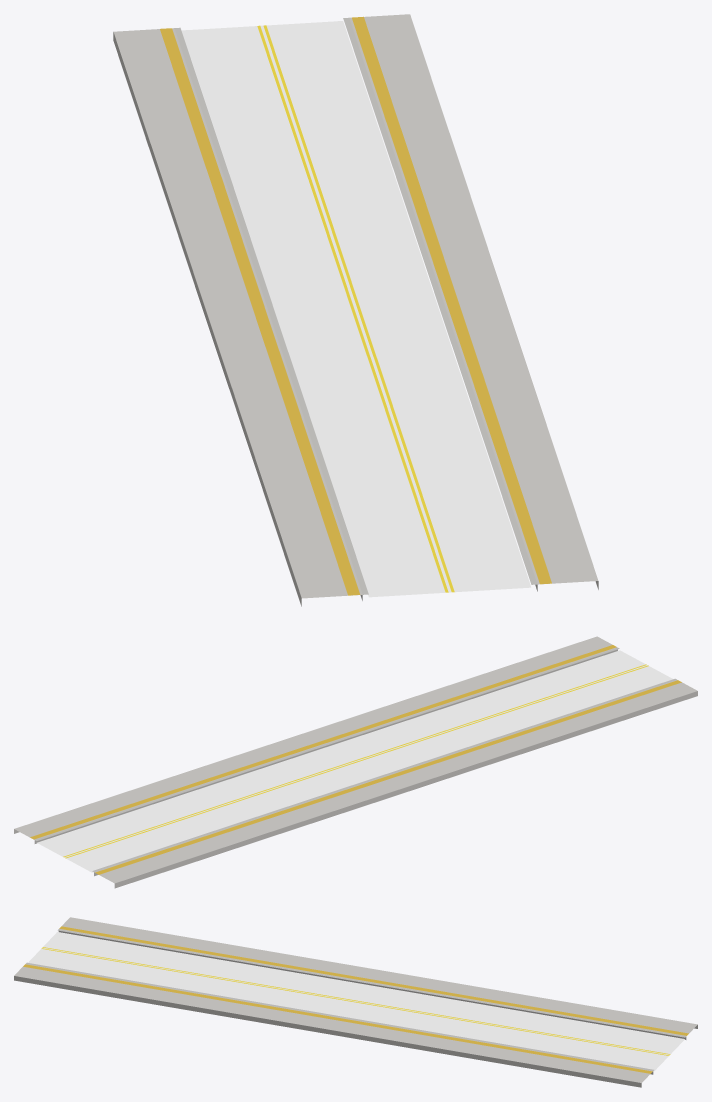
The model's file is roads_-5_-3.gltf.
The picture shows the model from 3 angles, top to bottom: view 1: azimuth 30°, elevation 25°; view 2: azimuth 150°, elevation 25°; view 3: azimuth 270°, elevation 25°; orthographic projection. The views are drawn at different scales.
Parts seen in each view (by area): view 1: roads_-5_-3_SH_wet_asphalt, roads_-5_-3_SH_sidewalk, roads_-5_-3_Road_Tactile_Strip, roads_-5_-3_SH_kerb, roads_-5_-3_SH_road_marking_white, roads_-5_-3_SH_road_marking_yellow; view 2: roads_-5_-3_SH_wet_asphalt, roads_-5_-3_SH_sidewalk, roads_-5_-3_Road_Tactile_Strip, roads_-5_-3_SH_kerb, roads_-5_-3_SH_road_marking_yellow, roads_-5_-3_SH_road_marking_white; view 3: roads_-5_-3_SH_wet_asphalt, roads_-5_-3_SH_sidewalk, roads_-5_-3_Road_Tactile_Strip, roads_-5_-3_SH_kerb, roads_-5_-3_SH_road_marking_yellow, roads_-5_-3_SH_road_marking_white.
Boxes of the visible parts, x1,y1,x2,y2 form: roads_-5_-3_SH_wet_asphalt: [181, 21, 531, 597]; roads_-5_-3_SH_sidewalk: [113, 14, 598, 606]; roads_-5_-3_Road_Tactile_Strip: [160, 16, 551, 595]; roads_-5_-3_SH_kerb: [174, 17, 537, 600]; roads_-5_-3_SH_road_marking_white: [183, 21, 528, 596]; roads_-5_-3_SH_road_marking_yellow: [257, 25, 454, 592]; roads_-5_-3_SH_wet_asphalt: [37, 650, 672, 872]; roads_-5_-3_SH_sidewalk: [14, 636, 697, 888]; roads_-5_-3_Road_Tactile_Strip: [30, 645, 681, 874]; roads_-5_-3_SH_kerb: [34, 647, 676, 876]; roads_-5_-3_SH_road_marking_yellow: [63, 664, 648, 858]; roads_-5_-3_SH_road_marking_white: [38, 650, 673, 871]; roads_-5_-3_SH_wet_asphalt: [28, 932, 684, 1071]; roads_-5_-3_SH_sidewalk: [14, 917, 697, 1087]; roads_-5_-3_Road_Tactile_Strip: [23, 926, 688, 1073]; roads_-5_-3_SH_kerb: [26, 929, 686, 1074]; roads_-5_-3_SH_road_marking_yellow: [41, 947, 670, 1055]; roads_-5_-3_SH_road_marking_white: [28, 932, 684, 1070].
Size of what is drawn, in the model's own units: 38.26 by 0.506 by 66.67.
